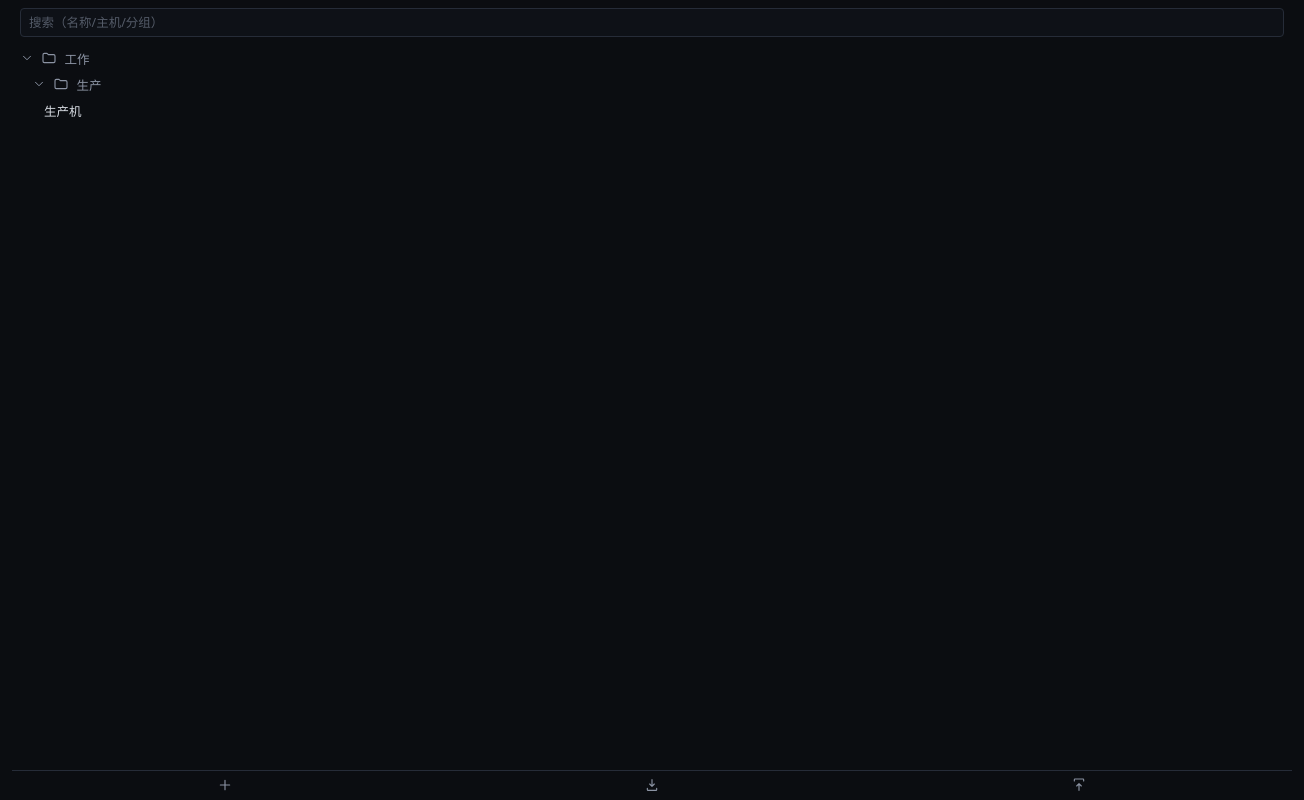
Test: Sidebar 分组行右键菜单 › 点任一项后菜单关闭（否则下一次右键会叠出两层）
Right-click the list item "工作" at {"x": 55, "y": 59}, box [20, 50, 89, 68]
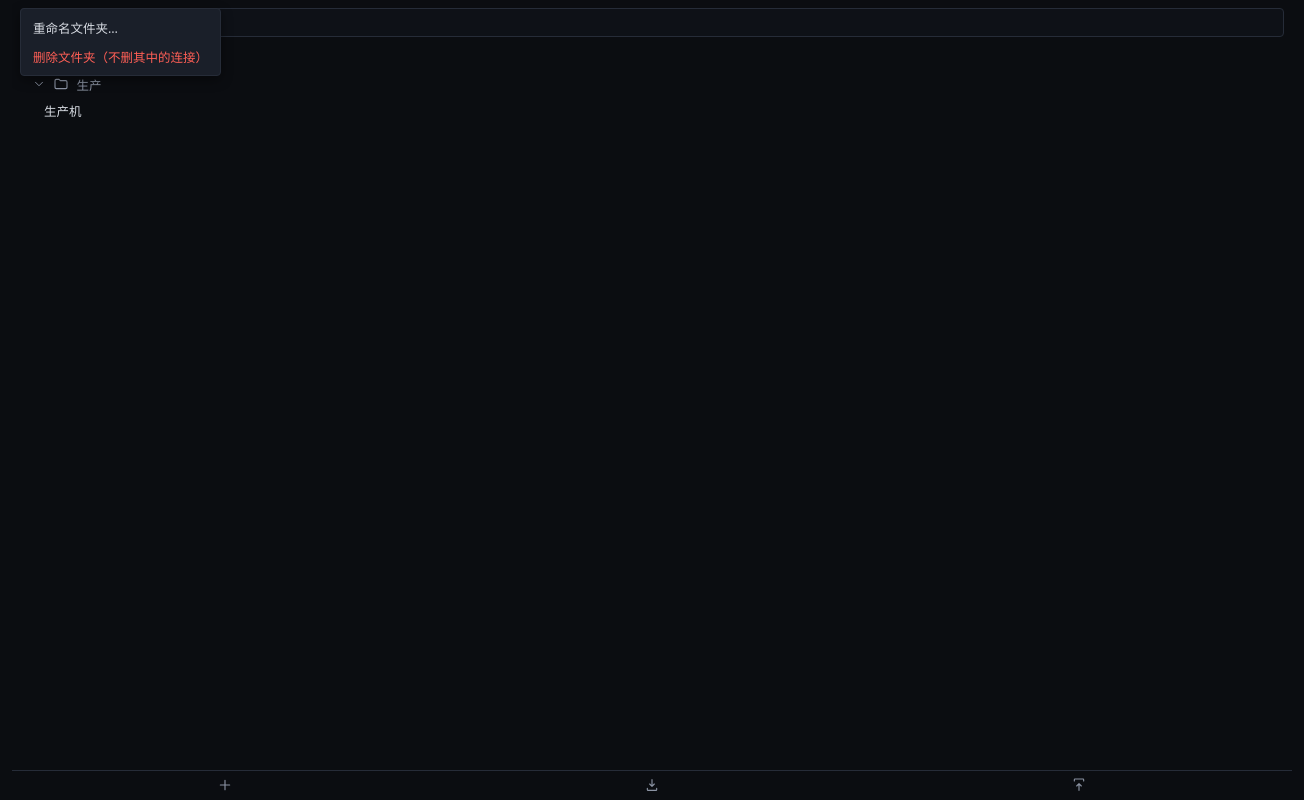
Click the menu item with test id "groupmenu-rename" at {"x": 75, "y": 28}, box [33, 20, 118, 37]
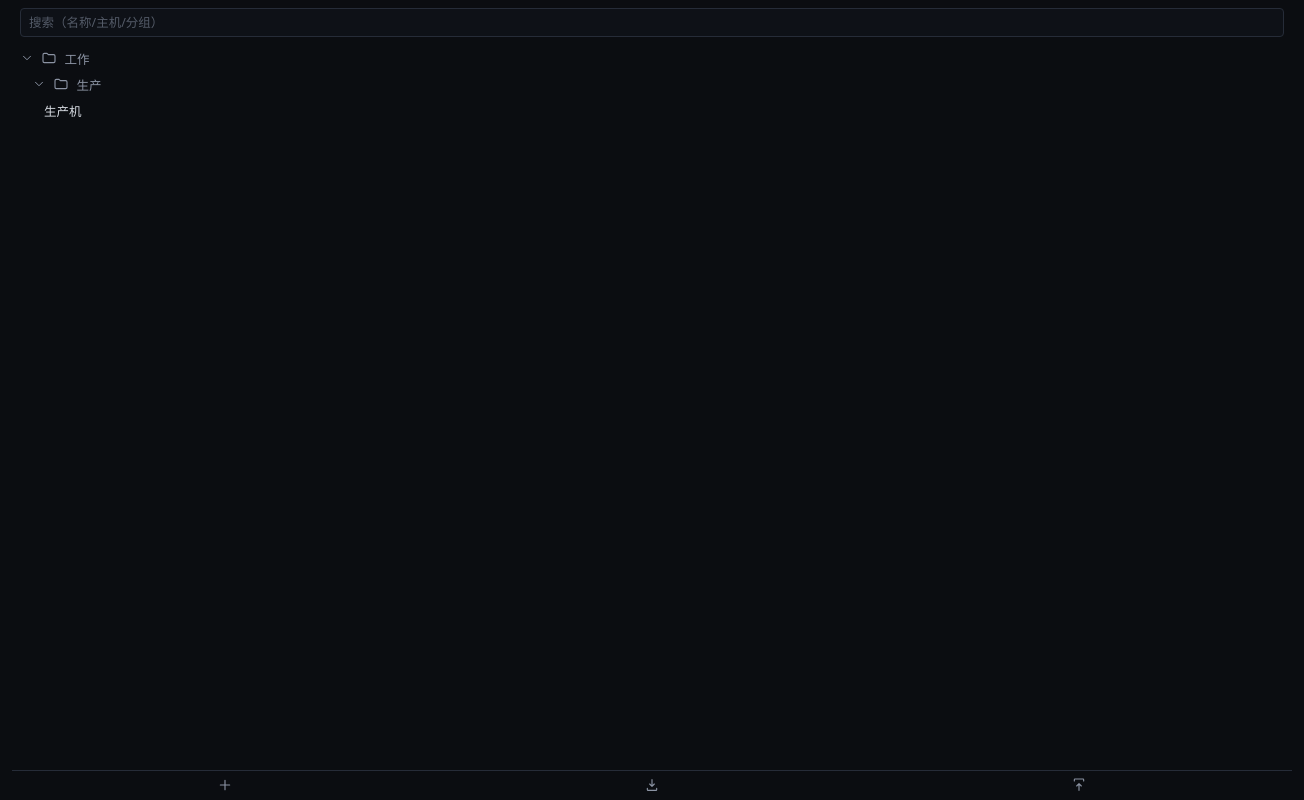
Now the menu with test id "sidebar-groupmenu" is gone
